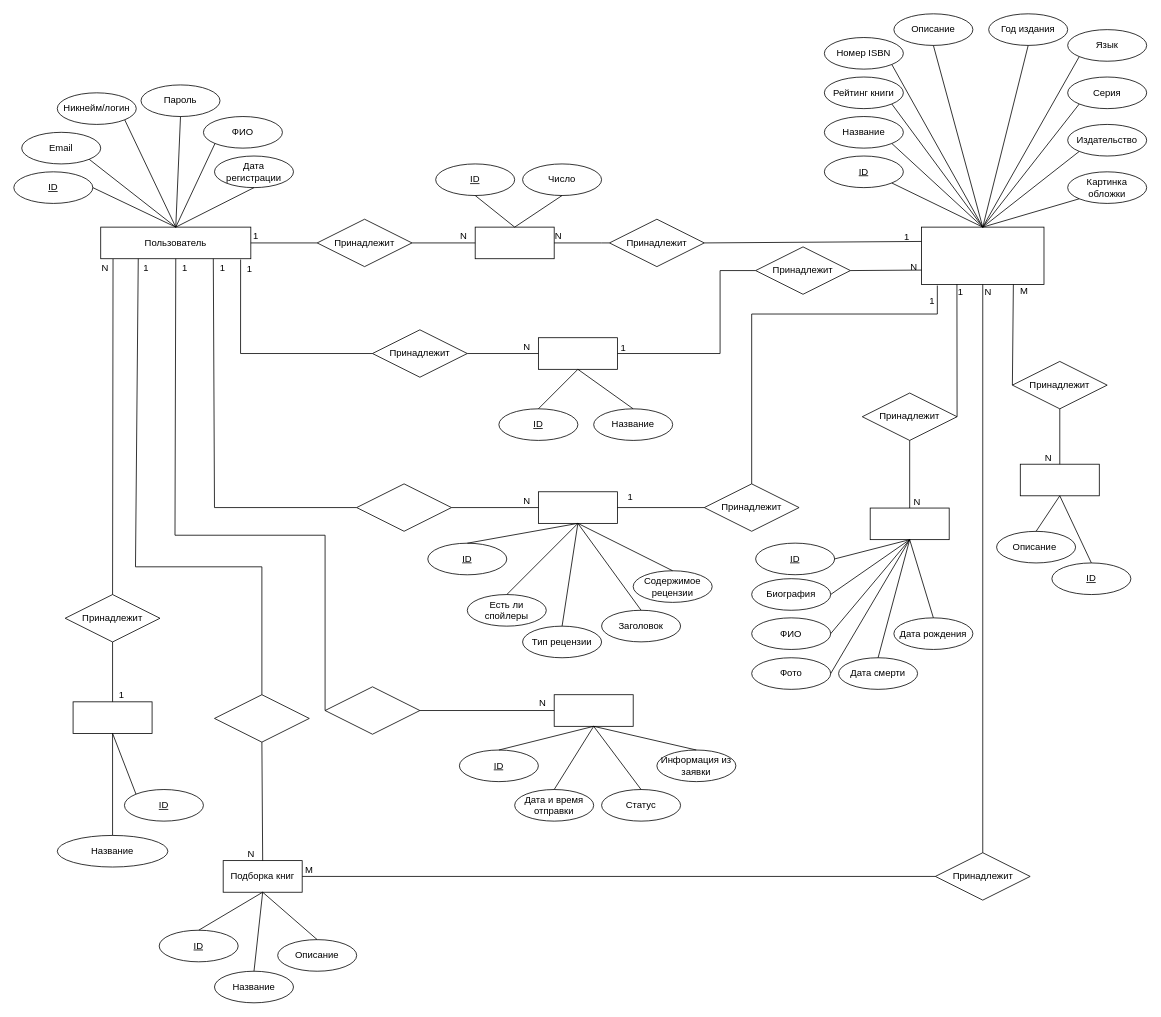
Image size: 1161x1017. Some labels were removed from this diagram. The centre of each missing label's shape, as x and y in pixels:
"Автор" goes at point (909, 523).
"Жанр" goes at point (1059, 479).
"Заявка" goes at point (593, 710).
"Книга" goes at point (982, 255).
"Оценка" goes at point (514, 242).
"Пишет заявку" goes at point (372, 710).
"Пишет рецензию" goes at point (403, 507).
"Рецензия" goes at point (577, 507).
"Роль" goes at point (112, 717).
"Составляет подборку" goes at point (261, 718).
"Список читательского дневника" goes at point (577, 353).
